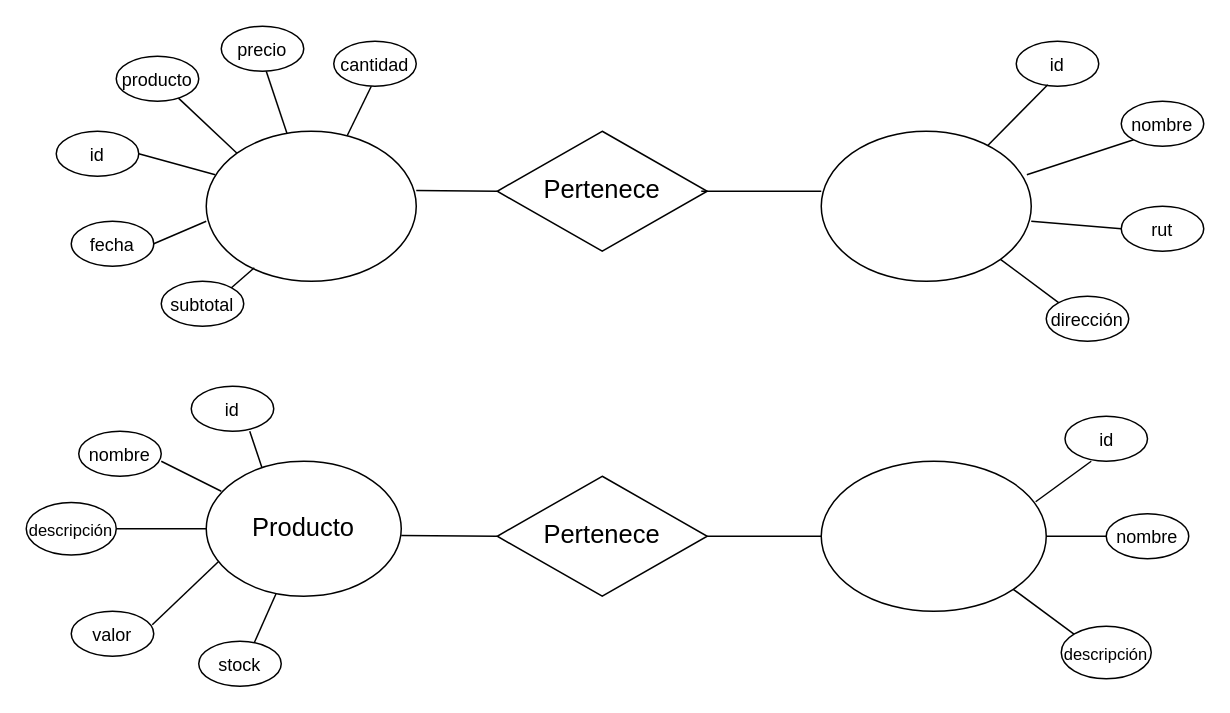
Some shapes in this 1230 by 713 pixel diagram are drawn without their labels. The centre of each missing label's shape, as x and y in pixels:
Categoría: point 933,535
Cliente: point 925,205
Factura: point 310,205
